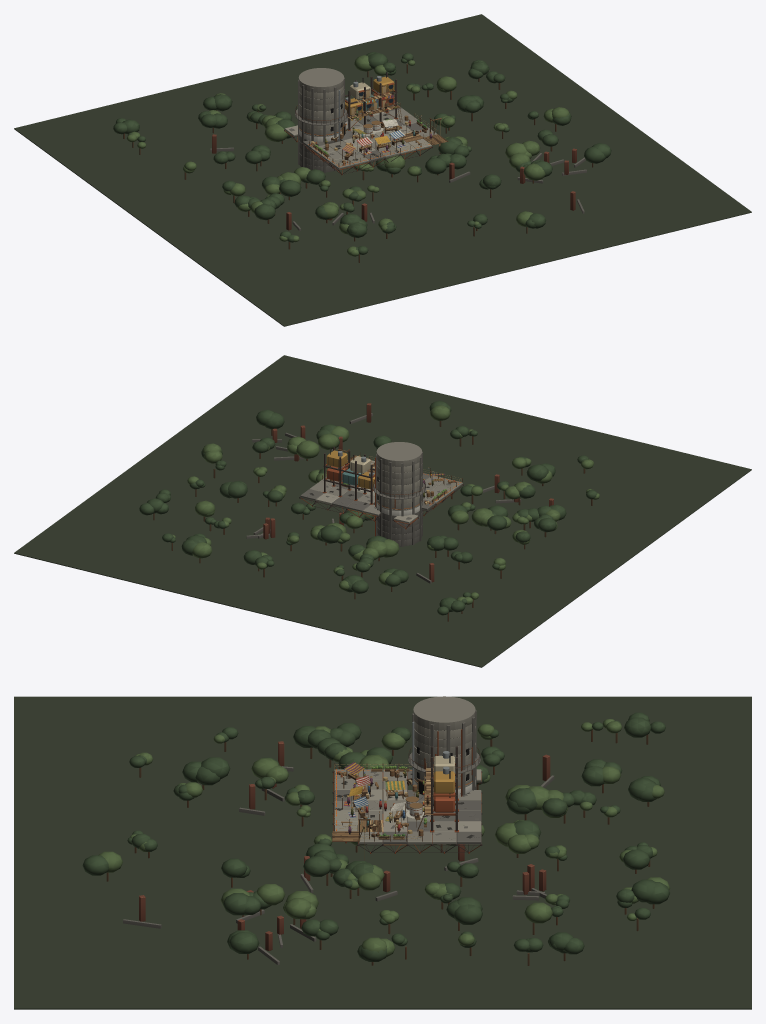
The model's file is market.glb.
3 renders of one model, top to bottom at view 1: azimuth 30°, elevation 25°; view 2: azimuth 150°, elevation 25°; view 3: azimuth 270°, elevation 25°, orthographic. The views are drawn at different scales.
Visible parts, largest first — view 1: Ground, Core, Deck, Market, Timber, Frame, Capsules, Cloth; view 2: Ground, Core, Deck, Frame, Capsules; view 3: Ground, Deck, Core, Market, Frame, Capsules, Timber, Cloth, People.
Part boxes in pixels (x1=…): Ground: x1=14, y1=14, x2=751, y2=326; Core: x1=295, y1=68, x2=347, y2=172; Deck: x1=285, y1=102, x2=437, y2=168; Market: x1=311, y1=103, x2=441, y2=164; Timber: x1=309, y1=85, x2=448, y2=167; Frame: x1=284, y1=72, x2=432, y2=175; Capsules: x1=345, y1=72, x2=394, y2=115; Cloth: x1=342, y1=94, x2=405, y2=153; Ground: x1=14, y1=355, x2=751, y2=667; Core: x1=373, y1=442, x2=425, y2=546; Deck: x1=300, y1=460, x2=462, y2=523; Frame: x1=299, y1=446, x2=463, y2=529; Capsules: x1=326, y1=448, x2=374, y2=489; Ground: x1=14, y1=696, x2=751, y2=1009; Deck: x1=334, y1=769, x2=481, y2=843; Core: x1=408, y1=696, x2=480, y2=798; Market: x1=337, y1=762, x2=427, y2=839; Frame: x1=332, y1=746, x2=482, y2=853; Capsules: x1=430, y1=751, x2=454, y2=812; Timber: x1=332, y1=763, x2=433, y2=841; Cloth: x1=344, y1=762, x2=405, y2=811; People: x1=346, y1=768, x2=429, y2=834.
Bounding box in the file's own units: 120 × 22.51 × 120.
